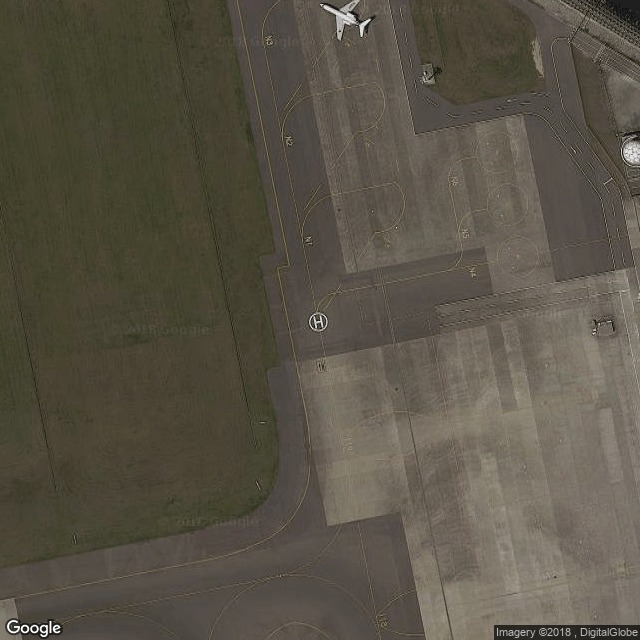heliport: (311, 313, 324, 329)
